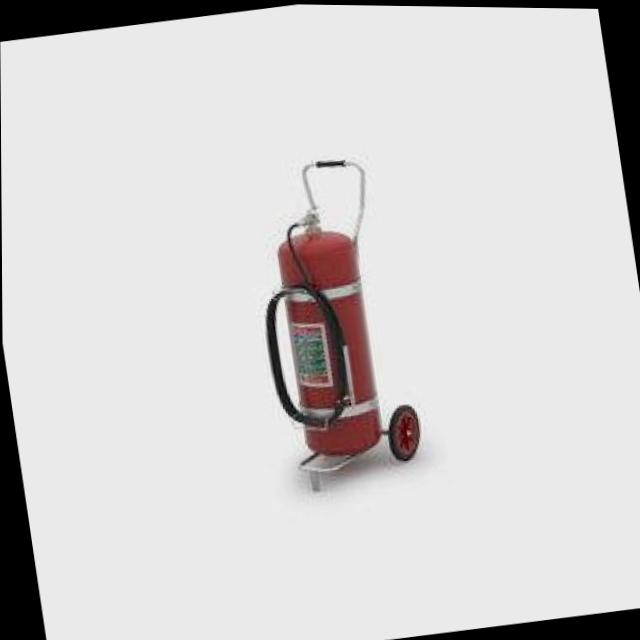FireExtinguisher: (241, 192, 389, 476)
